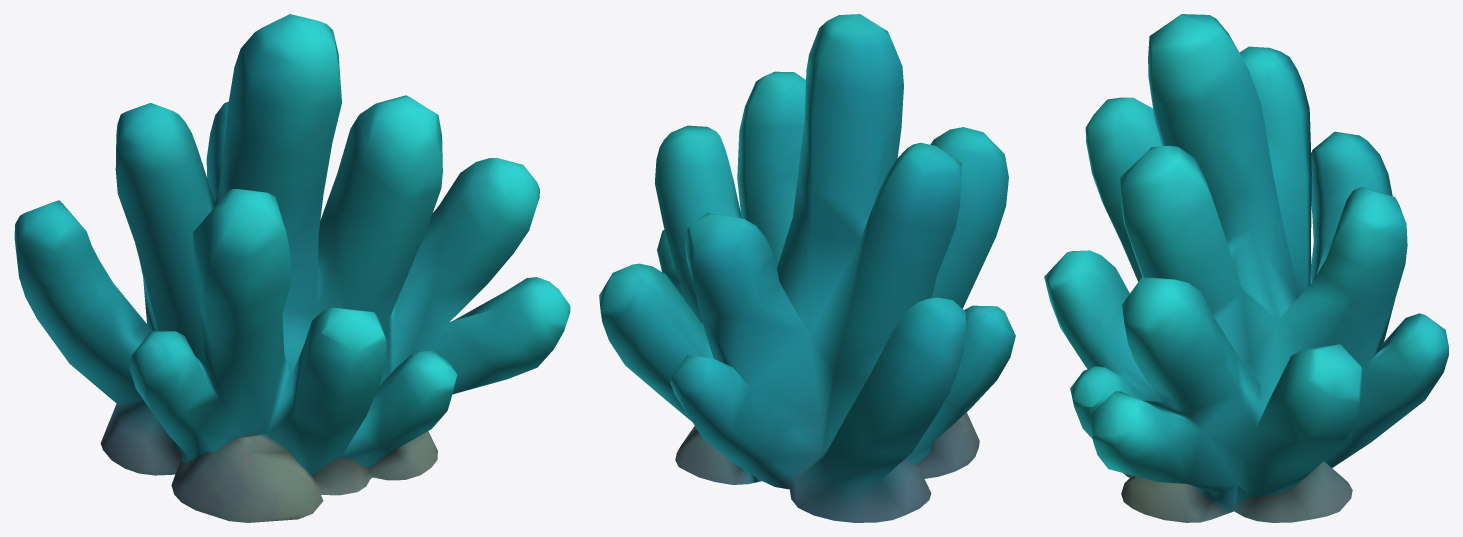
Rendered from coral_fingers.glb.
3 renders of one model, left to right at view 1: azimuth 30°, elevation 25°; view 2: azimuth 150°, elevation 25°; view 3: azimuth 270°, elevation 25°, orthographic. The views are drawn at different scales.
Parts seen in each view (by area): view 1: tripo_node_8d0ef850-3088-4173-96e8-3478229d3ce7; view 2: tripo_node_8d0ef850-3088-4173-96e8-3478229d3ce7; view 3: tripo_node_8d0ef850-3088-4173-96e8-3478229d3ce7.
Part boxes in pixels (x1,y1,x2,y2): tripo_node_8d0ef850-3088-4173-96e8-3478229d3ce7: (14, 14, 570, 522); tripo_node_8d0ef850-3088-4173-96e8-3478229d3ce7: (599, 14, 1015, 522); tripo_node_8d0ef850-3088-4173-96e8-3478229d3ce7: (1044, 14, 1448, 522).
Size of the model in its own units: 1.2 by 1.19 by 0.9885.
1 material, 1 textured.
